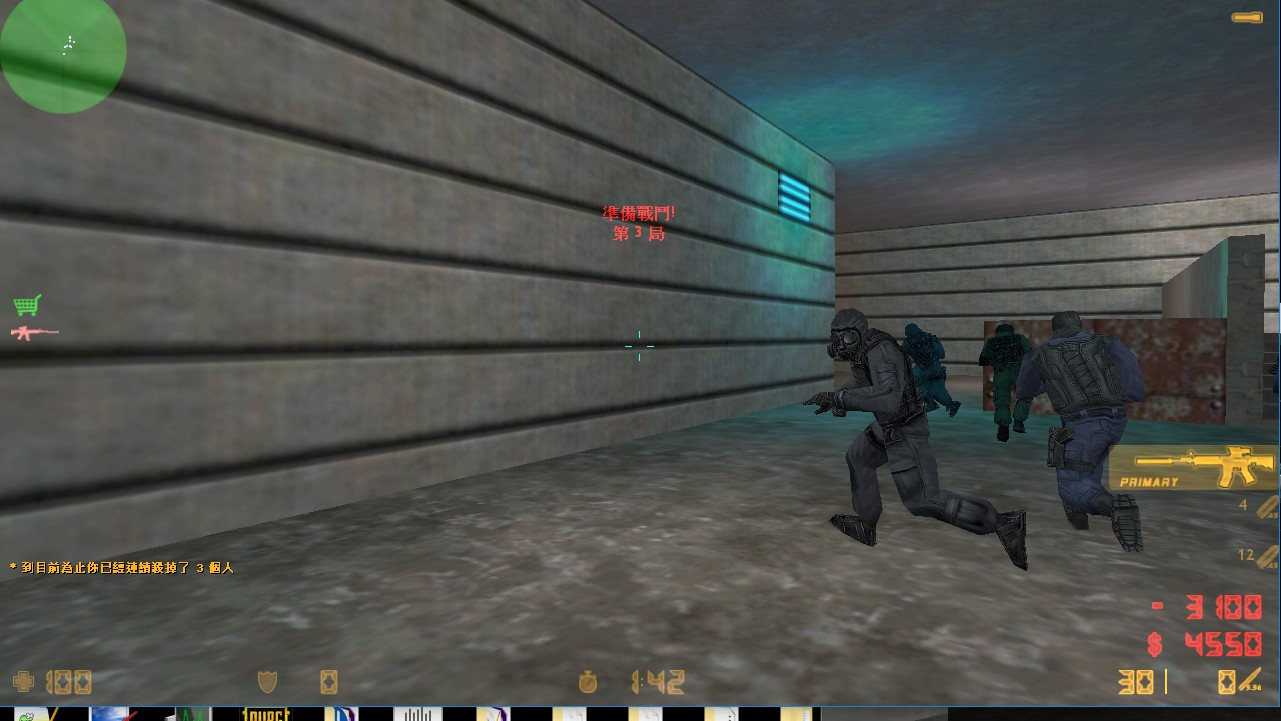person: (806, 303, 1033, 581), (1014, 299, 1160, 560), (898, 320, 964, 425), (977, 324, 1032, 442)
